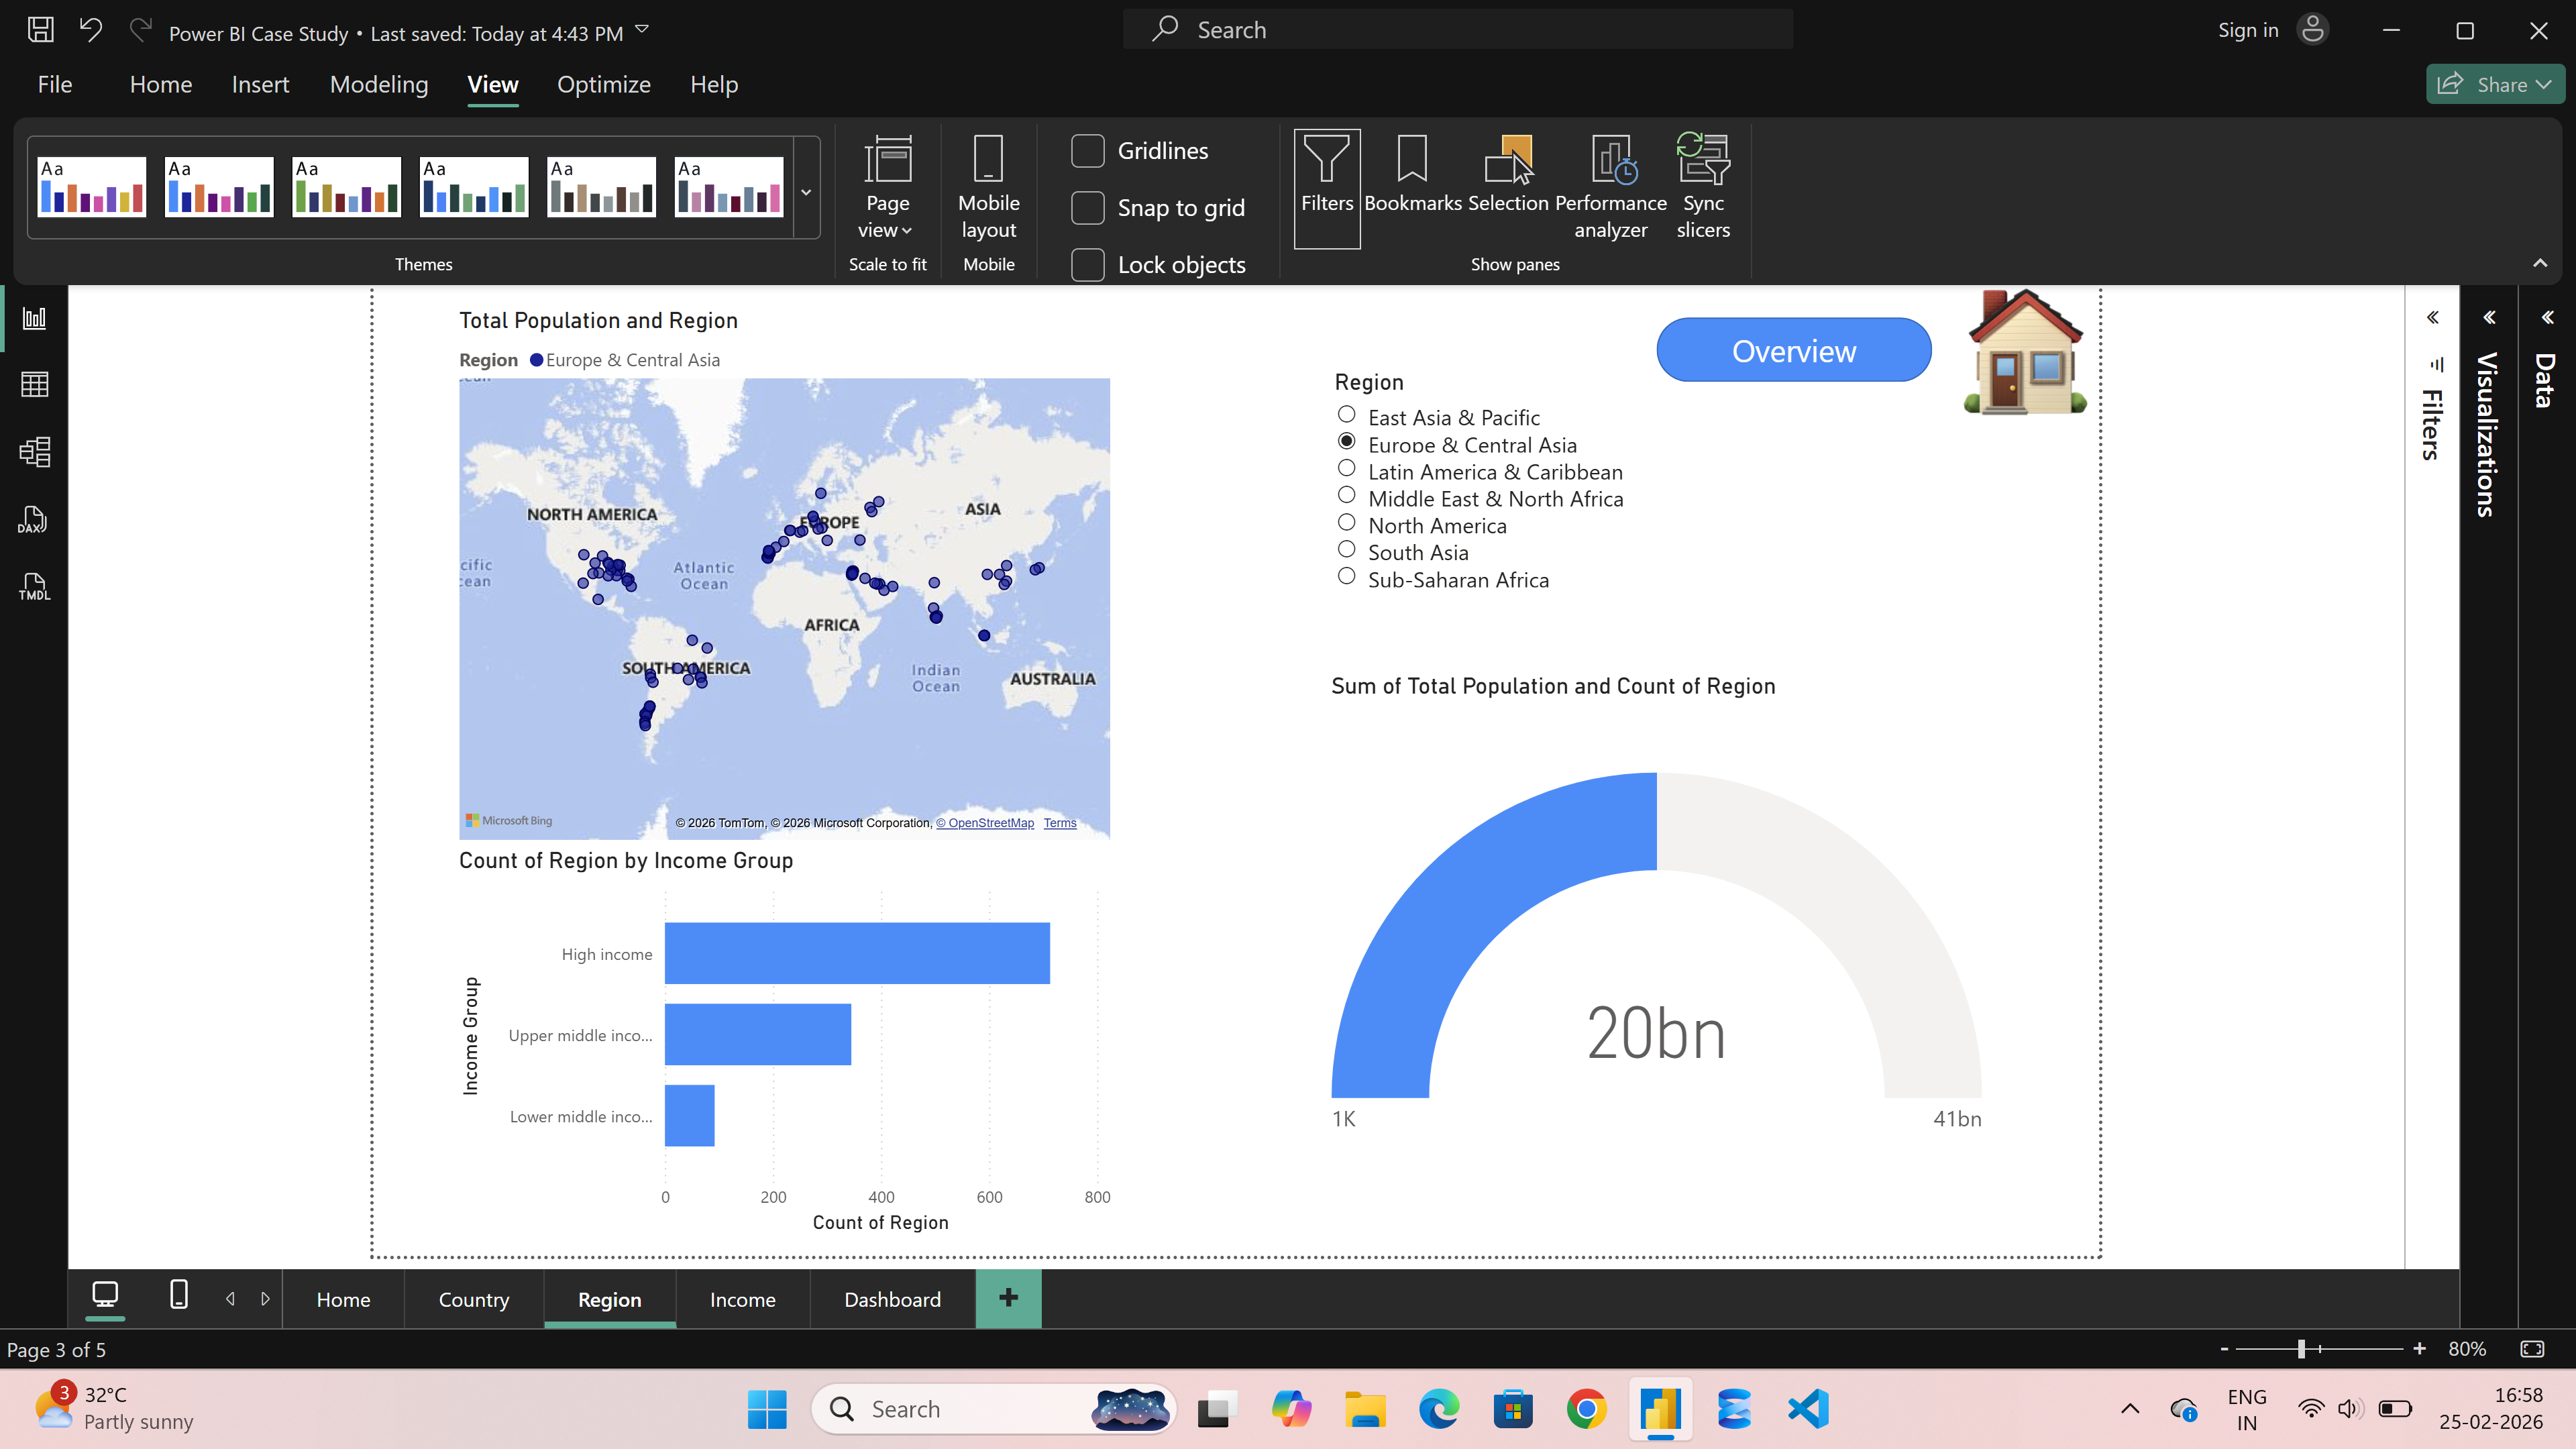

What the dashboard file says about the page in this screenshot:
{"tool":"powerbi","page":{"name":"Region","canvas":[1280,720],"ordinal":2},"visuals":[{"type":"map","fields":{"Category":["data.Total Population"],"Series":["data.Region"]},"box":[58.4,15.7,493.2,400.5],"z":0},{"type":"gauge","fields":{"Y":["Sum(data.Total Population)"],"MinValue":["CountNonNull(data.Region)"]},"box":[705.3,287.4,492.6,401.8],"z":1000},{"type":"image","box":[1170.2,0,109.8,98.4],"z":2000},{"type":"listSlicer","fields":{"Values":["data.Region"]},"box":[707.5,62.7,270.1,191],"z":3000},{"type":"clusteredBarChart","fields":{"Category":["data.Income Group"],"Y":["CountNonNull(data.Region)"]},"box":[58,417,493,291],"z":4000},{"type":"shape","title":"Overview","box":[952.2,0,204.5,71.6],"z":5000}]}

Visuals, with their boxes on the page's 1280x720 design canvas (x1, y1, x2, y2). These are canvas units, not pixel positions in the 2576x1449 screenshot, which may show the page scaled, cropped or inside an application window:
map - data.Total Population x data.Region: [left=58, top=16, right=552, bottom=416]
gauge - Sum(data.Total Population) x CountNonNull(data.Region): [left=705, top=287, right=1198, bottom=689]
image: [left=1170, top=0, right=1280, bottom=98]
listSlicer - data.Region: [left=708, top=63, right=978, bottom=254]
clusteredBarChart - data.Income Group x CountNonNull(data.Region): [left=58, top=417, right=551, bottom=708]
"Overview" shape: [left=952, top=0, right=1157, bottom=72]
